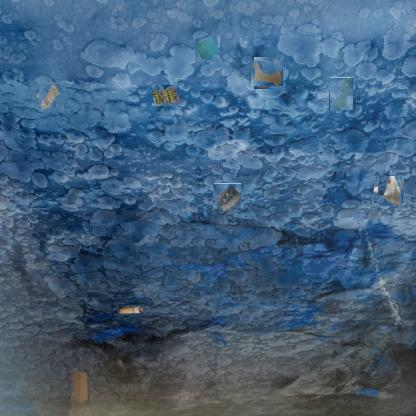dirty: (213, 183, 241, 212), (375, 178, 403, 205), (194, 34, 220, 62), (38, 85, 64, 111), (71, 368, 89, 404), (152, 84, 180, 106), (118, 304, 144, 314)
liquid: (253, 58, 281, 87), (329, 77, 353, 110)
